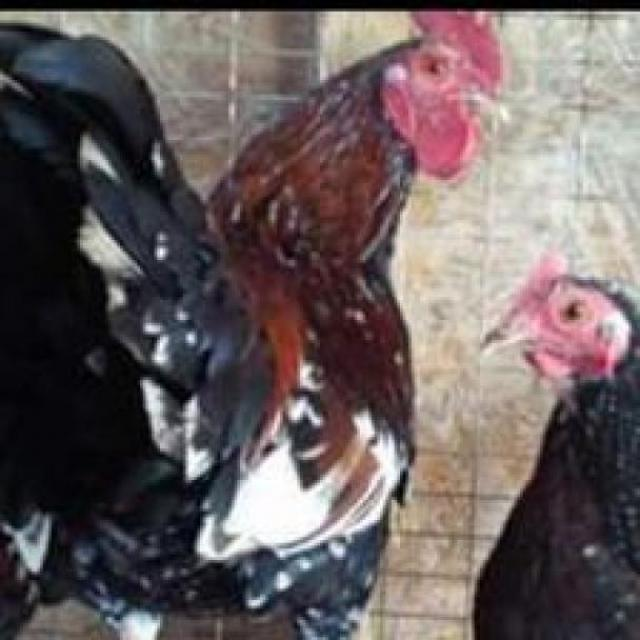Chicken: (0, 9, 527, 638)
